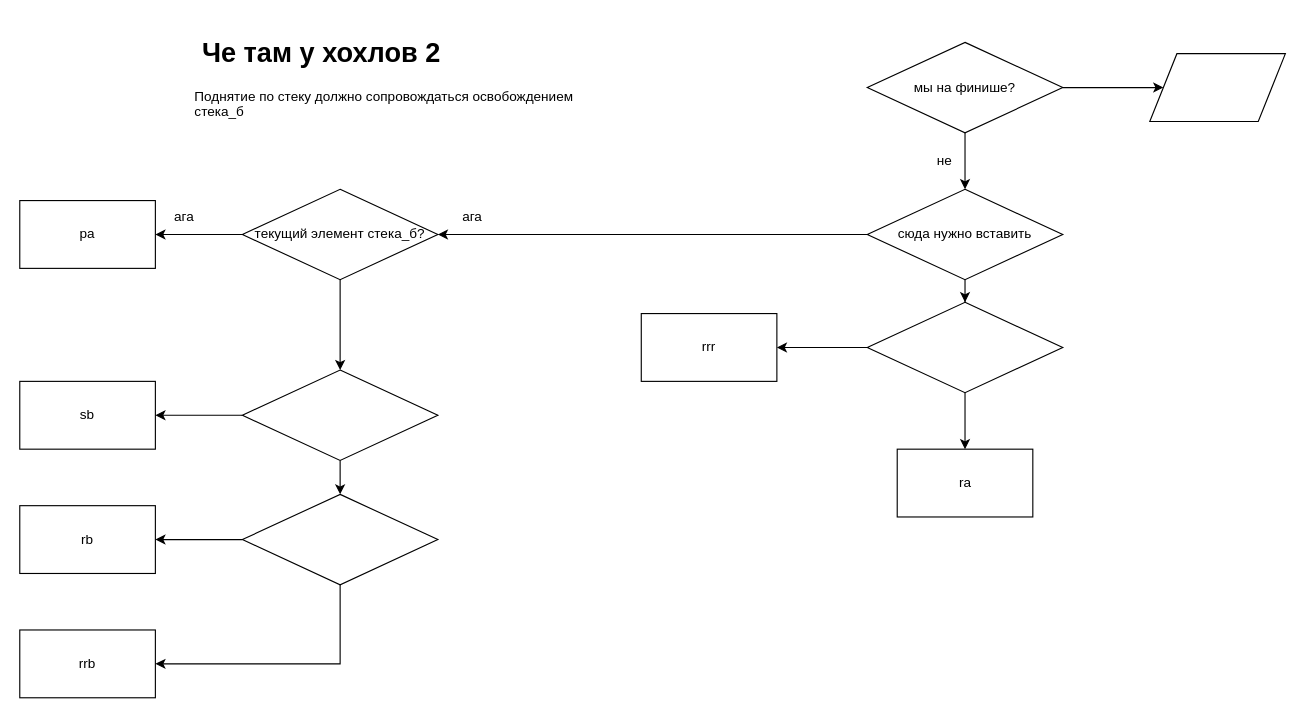
The diagram is 1305 pixels wide and 718 high, and some of its shapes have lost their labels. The centre of each missing label's shape, as x and y in pixels:
"выгоднее свапать?" goes at pixel 339 414.
"выход" goes at pixel 1217 87.
"идти вверх?" goes at pixel 339 539.
"оба стека стоит поднять?" goes at pixel 964 347.
